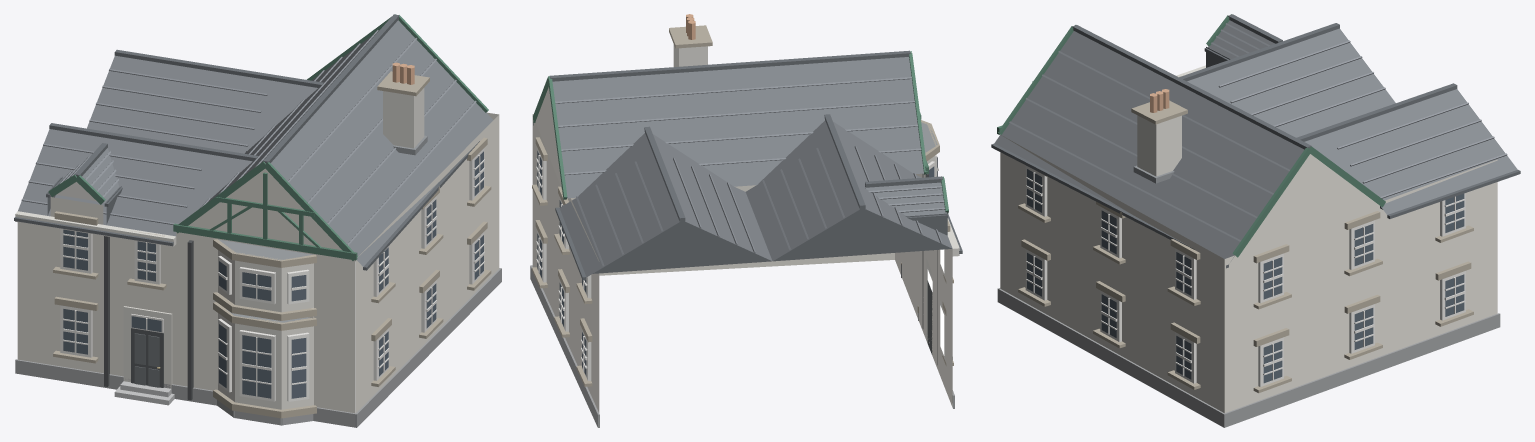
3 renders of one model, left to right at view 1: azimuth 30°, elevation 25°; view 2: azimuth 150°, elevation 25°; view 3: azimuth 270°, elevation 25°, orthographic.
Visible parts, largest first — view 1: slate, harl_cream, frame, doorcase, string, slate_dk, door_green, slate_lt, plinth, chim_render, pipe, window_glass_002 (+10 smaller); view 2: slate, slate_dk, harl_cream, slate_lt, doorcase, frame, door_green, plinth, chim_render, string; view 3: harl_cream, slate, plinth, frame, slate_dk, doorcase, slate_lt, door_green, chim_render, window_glass_013, window_glass_015, window_glass_012 (+3 smaller).
Part boxes in pixels (x1,y1,x2,y2): slate: [18, 20, 493, 266]; harl_cream: [17, 112, 499, 413]; frame: [60, 148, 484, 401]; doorcase: [53, 71, 491, 418]; string: [15, 211, 313, 409]; slate_dk: [14, 14, 479, 270]; door_green: [48, 14, 488, 260]; slate_lt: [21, 30, 476, 245]; plinth: [15, 268, 501, 427]; chim_render: [383, 88, 424, 148]; pipe: [104, 236, 193, 400]; window_glass_002: [242, 335, 271, 398]; slate: [552, 57, 952, 277]; slate_dk: [533, 50, 962, 280]; harl_cream: [532, 87, 952, 412]; slate_lt: [555, 77, 945, 267]; doorcase: [532, 25, 953, 386]; frame: [536, 148, 945, 380]; door_green: [533, 51, 948, 213]; plinth: [530, 265, 954, 427]; chim_render: [673, 44, 707, 66]; string: [926, 156, 959, 342]; harl_cream: [1000, 135, 1497, 413]; slate: [994, 20, 1517, 260]; plinth: [997, 288, 1500, 427]; frame: [1025, 165, 1465, 386]; slate_dk: [991, 14, 1520, 268]; doorcase: [1018, 76, 1473, 393]; slate_lt: [1009, 23, 1507, 241]; door_green: [997, 14, 1385, 257]; chim_render: [1137, 115, 1181, 176]; window_glass_013: [1354, 308, 1373, 349]; window_glass_015: [1445, 274, 1464, 316]; window_glass_012: [1263, 257, 1282, 299].
Size of the model in its own units: 16.18 by 9.07 by 16.02.
